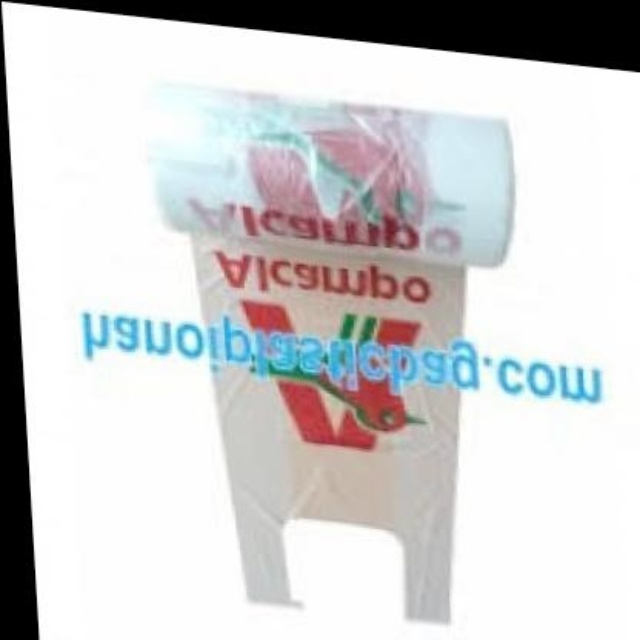trash: (151, 86, 512, 620)
